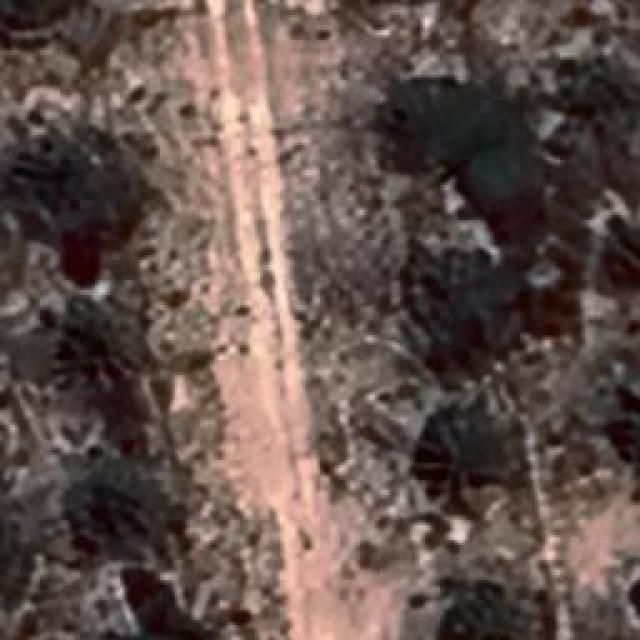PalmTree: (33, 23, 624, 242), (14, 141, 114, 234), (417, 254, 495, 358), (421, 405, 504, 495), (406, 94, 486, 184), (92, 458, 170, 542), (436, 587, 528, 640), (61, 322, 124, 396), (582, 61, 640, 119), (613, 372, 640, 476), (0, 514, 24, 604), (620, 386, 640, 479), (0, 512, 17, 605)
